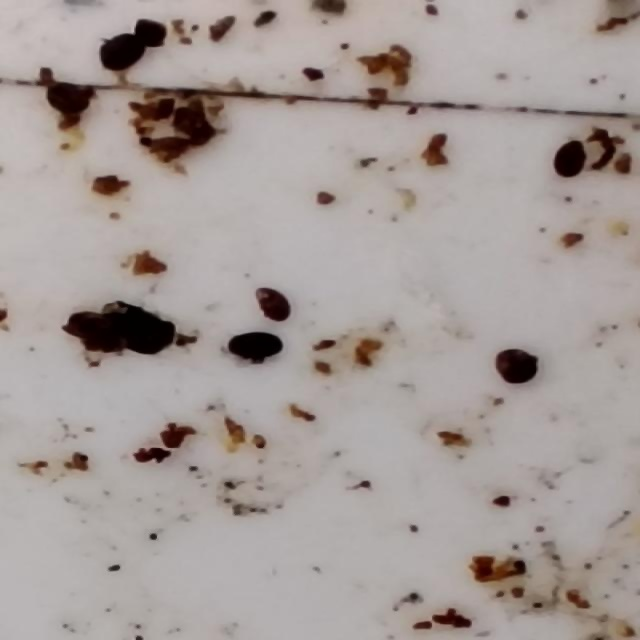varroa: (226, 330, 284, 365), (97, 32, 142, 76), (492, 345, 539, 387), (547, 137, 589, 182), (47, 78, 92, 120), (252, 288, 290, 323), (132, 21, 167, 52)
